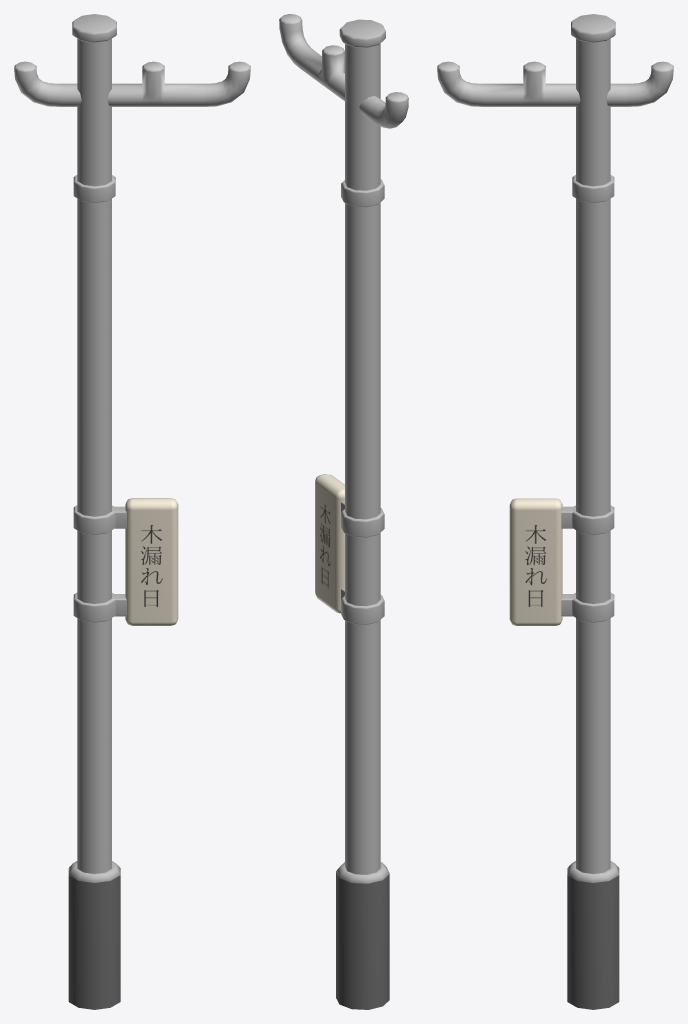
Rendered from Pole.obj.
The picture shows the model from 3 angles, left to right: view 1: azimuth 90°, elevation 25°; view 2: azimuth 210°, elevation 25°; view 3: azimuth 270°, elevation 25°; orthographic projection.
Visible parts, largest first — view 1: Pole_pCylinder25SG, Pole_pCube16SG, Pole_pCylinder36SG; view 2: Pole_pCylinder25SG, Pole_pCylinder36SG, Pole_pCube16SG; view 3: Pole_pCylinder25SG, Pole_pCube16SG, Pole_pCylinder36SG.
Part boxes in pixels (x1,y1,x2,y2): Pole_pCylinder25SG: (68,14,126,1009); Pole_pCube16SG: (125,498,178,625); Pole_pCylinder36SG: (14,61,250,106); Pole_pCylinder25SG: (336,19,389,1009); Pole_pCylinder36SG: (279,14,408,128); Pole_pCube16SG: (315,474,344,613); Pole_pCylinder25SG: (561,14,619,1009); Pole_pCube16SG: (509,498,562,625); Pole_pCylinder36SG: (437,61,673,106).
Bounding box in the file's own units: 1.62 × 31.91 × 7.01.
